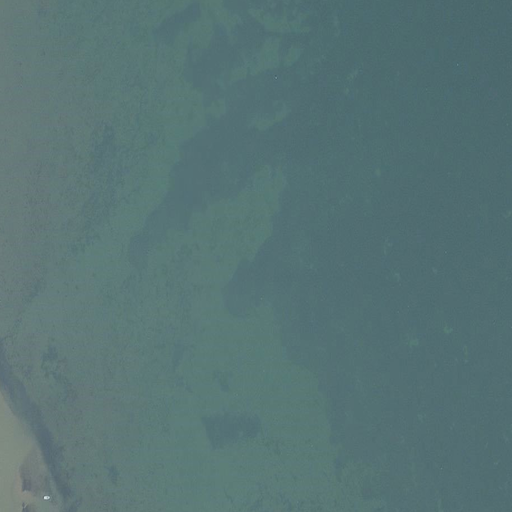ship: (42, 494, 52, 501)
